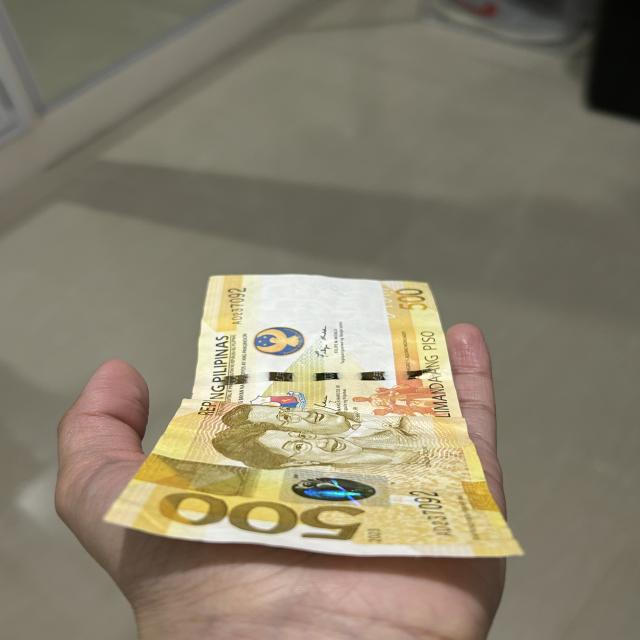concealed_value: (148, 452, 246, 494)
optically_variable_device: (295, 470, 375, 501)
security_thread: (217, 369, 447, 386)
see_through_mark: (377, 282, 403, 322)
serial_number: (398, 478, 463, 546), (225, 280, 250, 330)
value: (146, 488, 360, 546)
